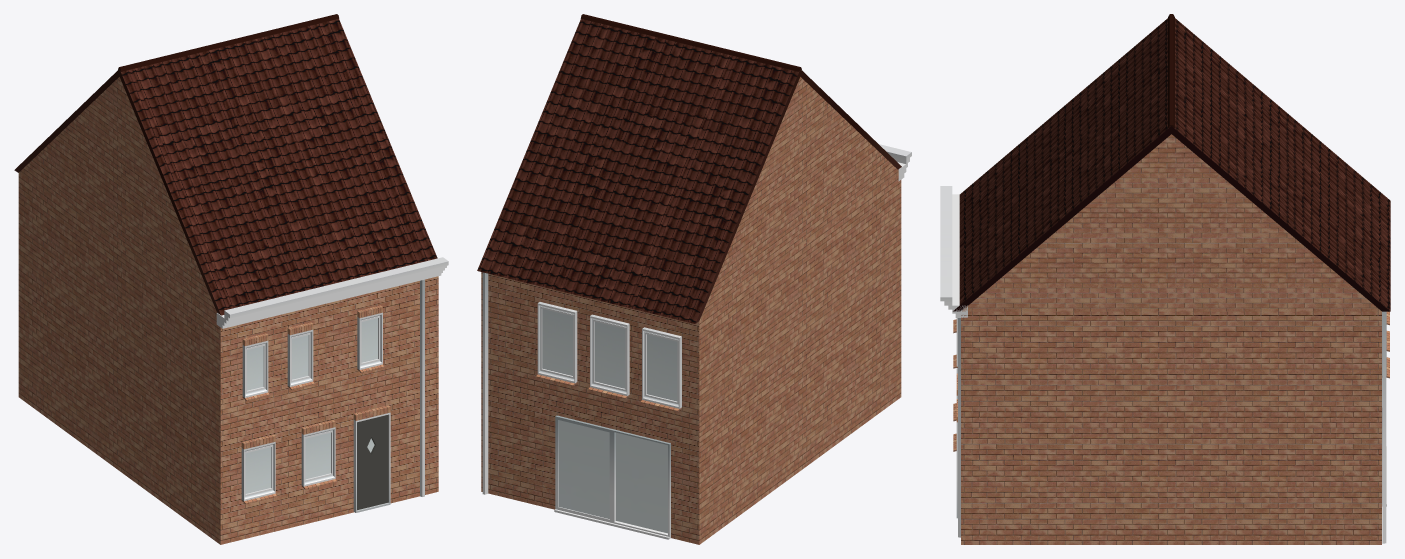
The model's file is Buorkerij_65.fbx.
3 renders of one model, left to right at view 1: azimuth 30°, elevation 25°; view 2: azimuth 150°, elevation 25°; view 3: azimuth 270°, elevation 25°, orthographic. The views are drawn at different scales.
Visible parts, largest first — view 1: Buorkerij_65; view 2: Buorkerij_65; view 3: Buorkerij_65.
Boxes of the visible parts, <box> form: Buorkerij_65: <box>14,14,448,544</box>; Buorkerij_65: <box>477,14,911,544</box>; Buorkerij_65: <box>940,14,1390,544</box>.
Size of the model in its own units: 592 by 1044 by 1015.
